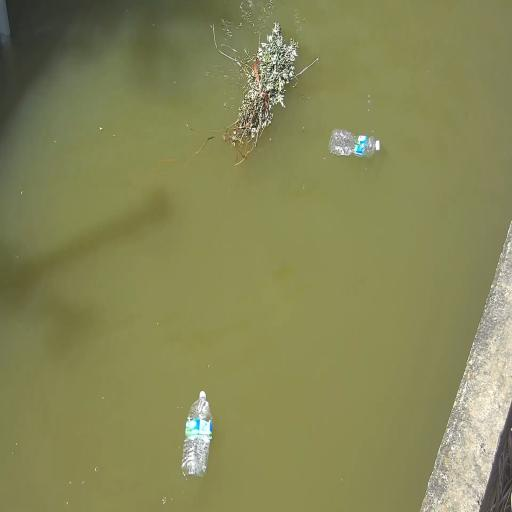plastic: (182, 391, 212, 478), (330, 129, 379, 156)
twig: (193, 20, 320, 166)
